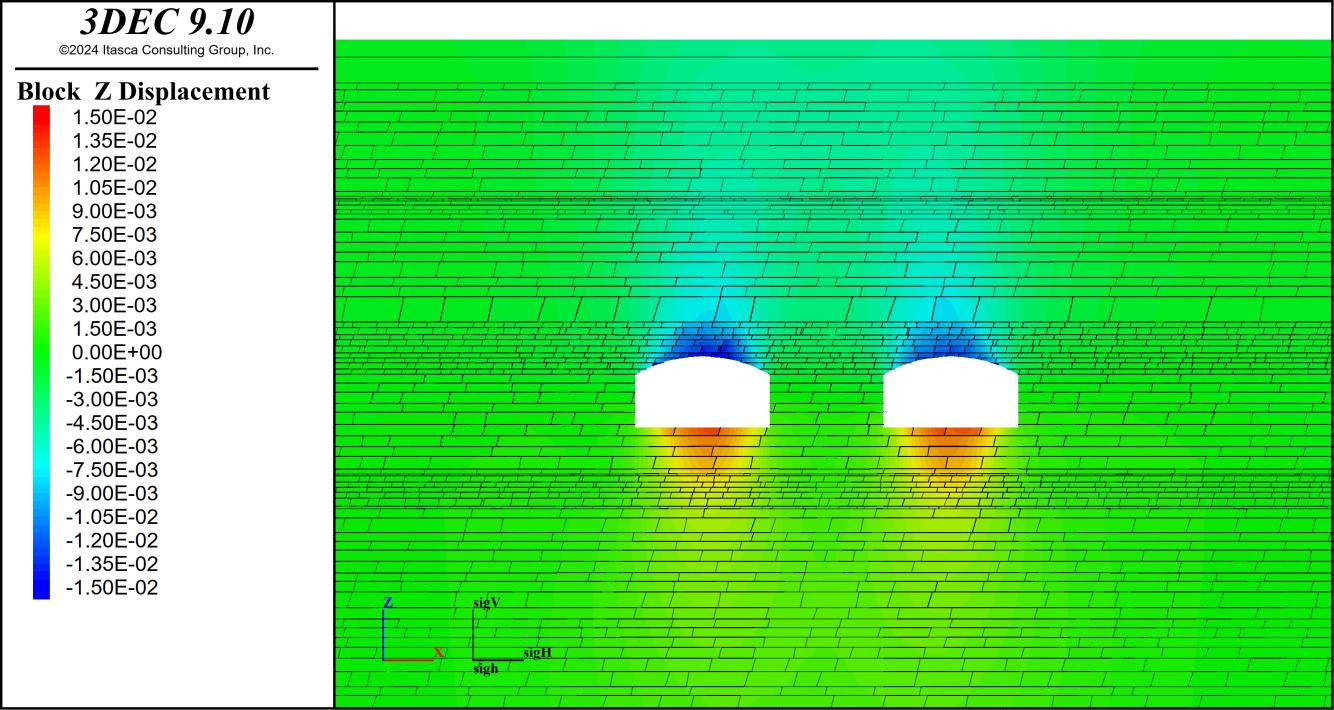crown: (681, 329, 720, 352), (941, 331, 966, 352)
label: (0, 0, 333, 709)
tunnel-opening: (636, 356, 770, 428), (885, 359, 1018, 427)
